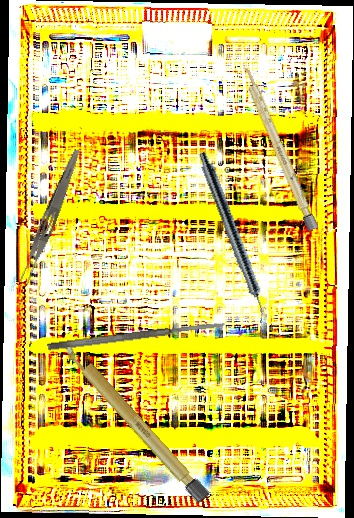Dressing Forceps: (16, 146, 83, 288)
Handpiece: (192, 150, 274, 325)
Scalpel Handle: (59, 338, 212, 505), (239, 65, 319, 232)
Spatula Surgical: (47, 320, 226, 352)
